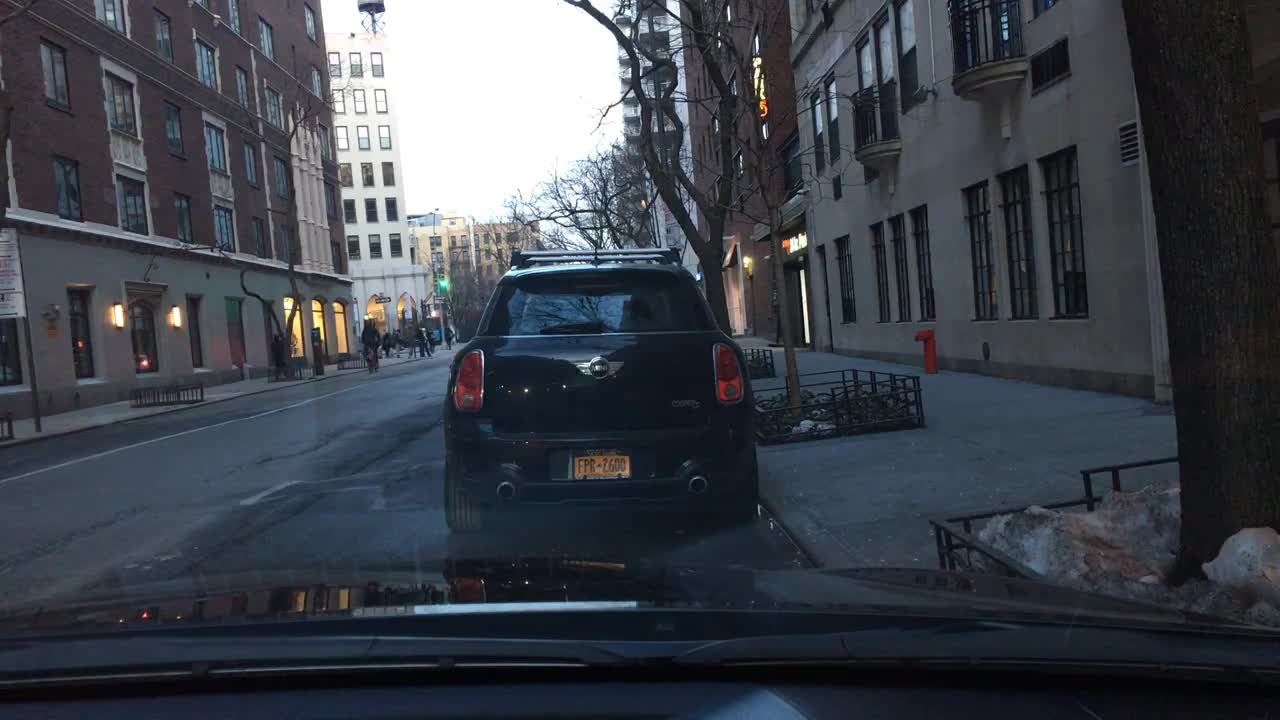bike: (359, 345, 378, 375)
car: (442, 243, 761, 535)
person: (272, 335, 287, 379), (417, 330, 431, 356), (426, 329, 437, 353), (382, 331, 391, 357), (447, 326, 454, 349)
rider: (359, 318, 380, 367)
traffic light: (437, 266, 449, 287)
traffic sign: (0, 226, 25, 316), (374, 296, 392, 303), (433, 295, 450, 300)
